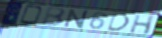6: (89, 11, 108, 30)
B: (41, 7, 67, 27)
D: (18, 4, 45, 26), (106, 12, 132, 32)
H: (128, 14, 156, 36)
N: (63, 8, 90, 29)
